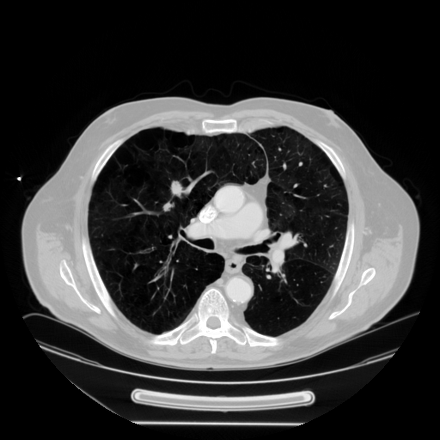nodule: (165, 187, 181, 203)
